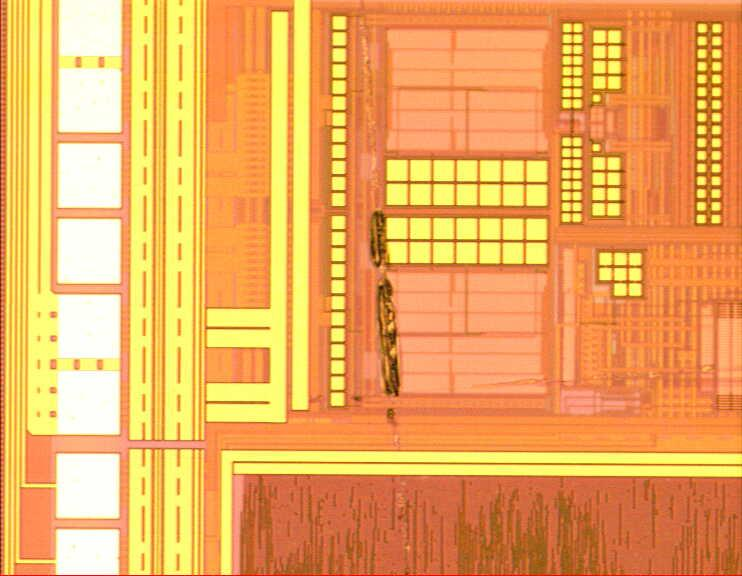SCRATCH: (361, 189, 420, 466)
